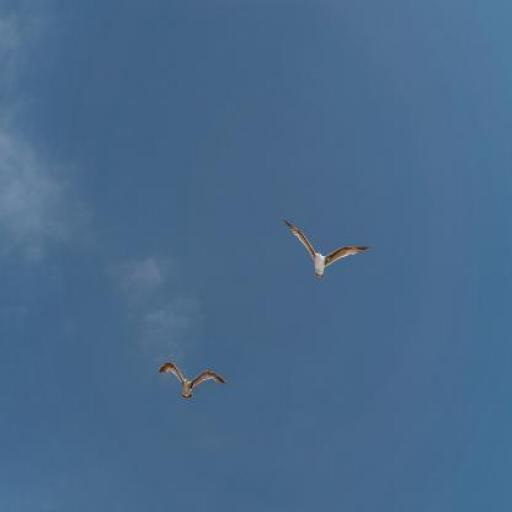bird: (284, 218, 370, 280), (156, 362, 228, 399)
